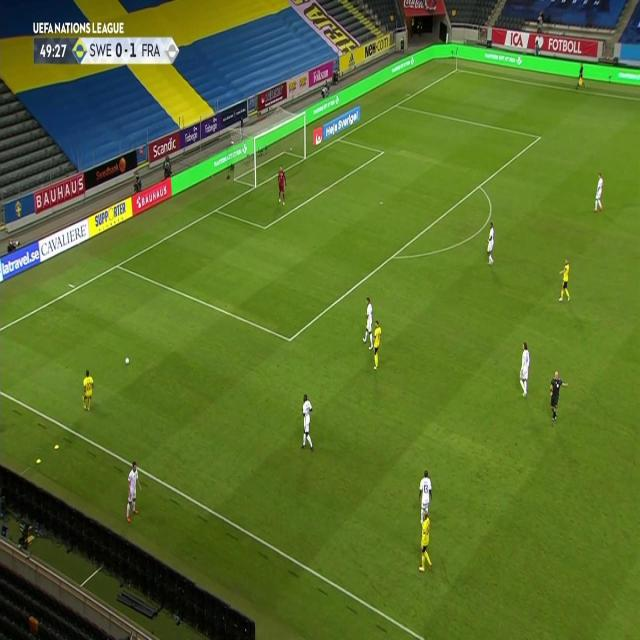ball: (124, 356, 131, 366)
player: (547, 368, 568, 428), (416, 510, 434, 575), (124, 459, 142, 522), (299, 391, 315, 452), (416, 467, 434, 521), (517, 342, 531, 398), (369, 319, 383, 371), (361, 294, 375, 345), (80, 368, 94, 412), (558, 258, 572, 301), (484, 222, 496, 266), (592, 172, 604, 212), (277, 163, 287, 204), (576, 61, 586, 89)
